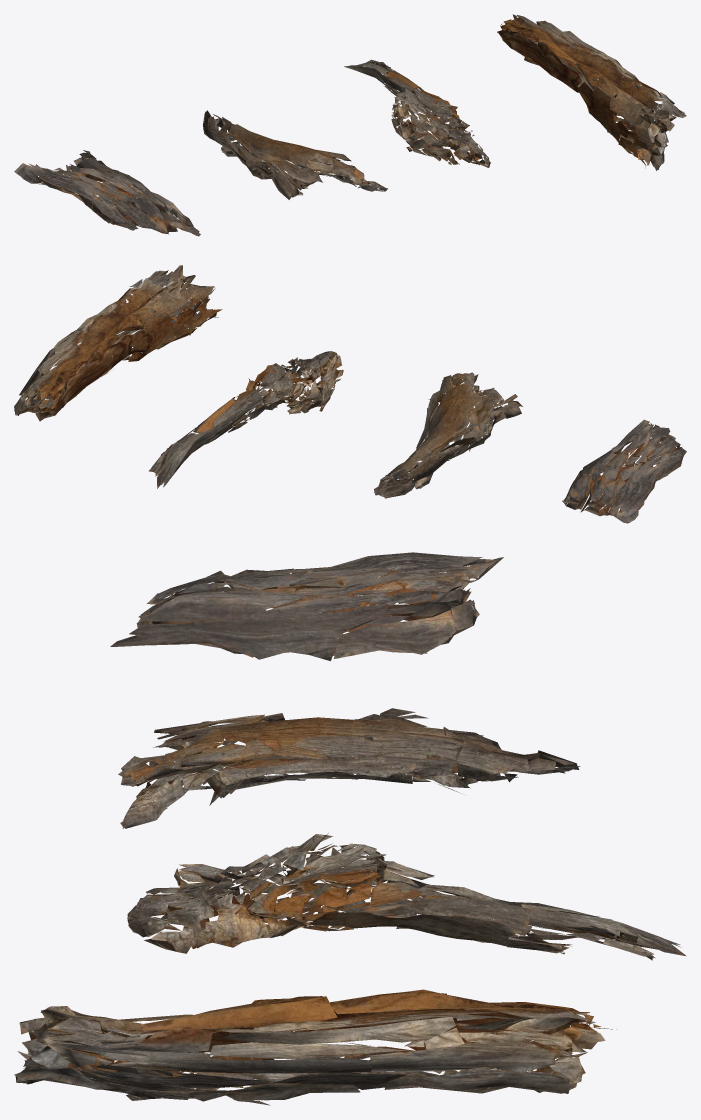
The model's file is bark_debris_01.glb.
3 views of the same model, one above another, from view 1: azimuth 30°, elevation 25°; view 2: azimuth 150°, elevation 25°; view 3: azimuth 270°, elevation 25° (orthographic). The views are drawn at different scales.
Visible parts, largest first — view 1: bark_debris_01_a; view 2: bark_debris_01_a; view 3: bark_debris_01_a.
Part boxes in pixels (x1,y1,x2,y2): bark_debris_01_a: (14,14,686,236); bark_debris_01_a: (14,265,686,523); bark_debris_01_a: (14,552,685,1105).
Size of the model in its own units: 1.21 by 0.1103 by 0.6721.
Materials: 1 (1 with a texture image).
